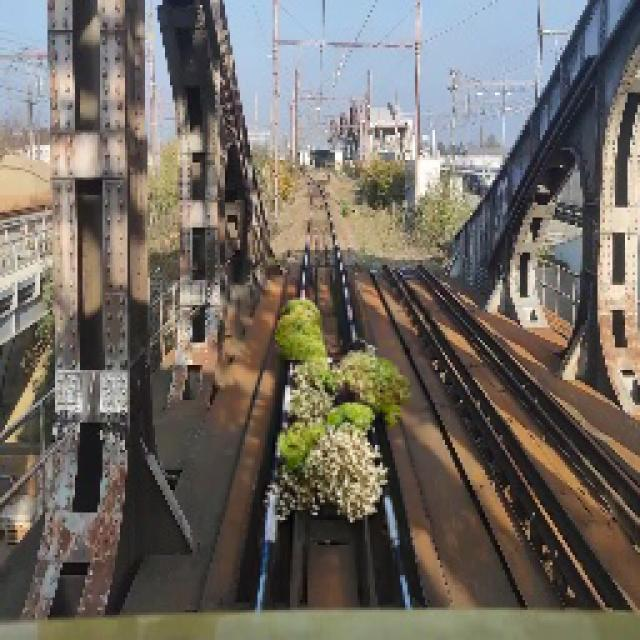rail: (224, 168, 429, 614)
